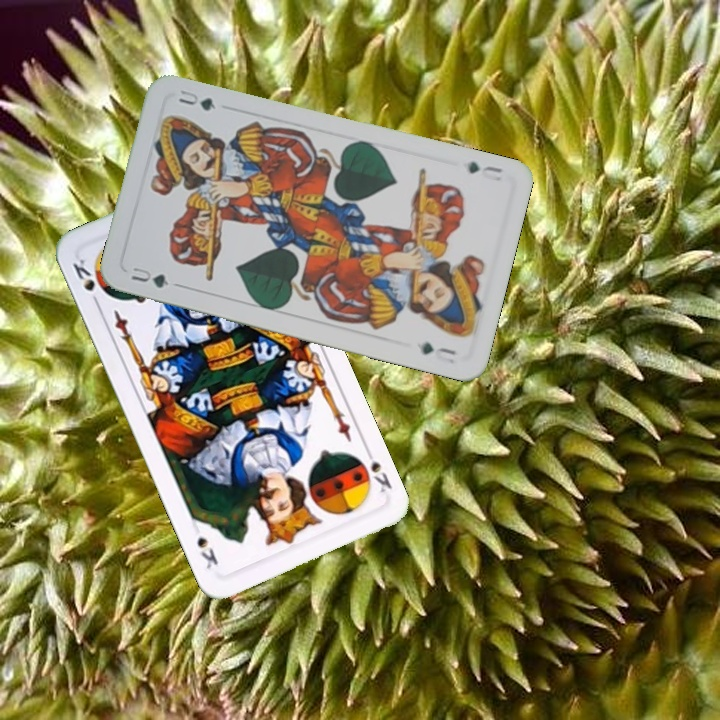GU: (127, 263, 182, 291), (463, 157, 505, 177)
SK: (68, 254, 103, 310), (360, 443, 395, 495)
